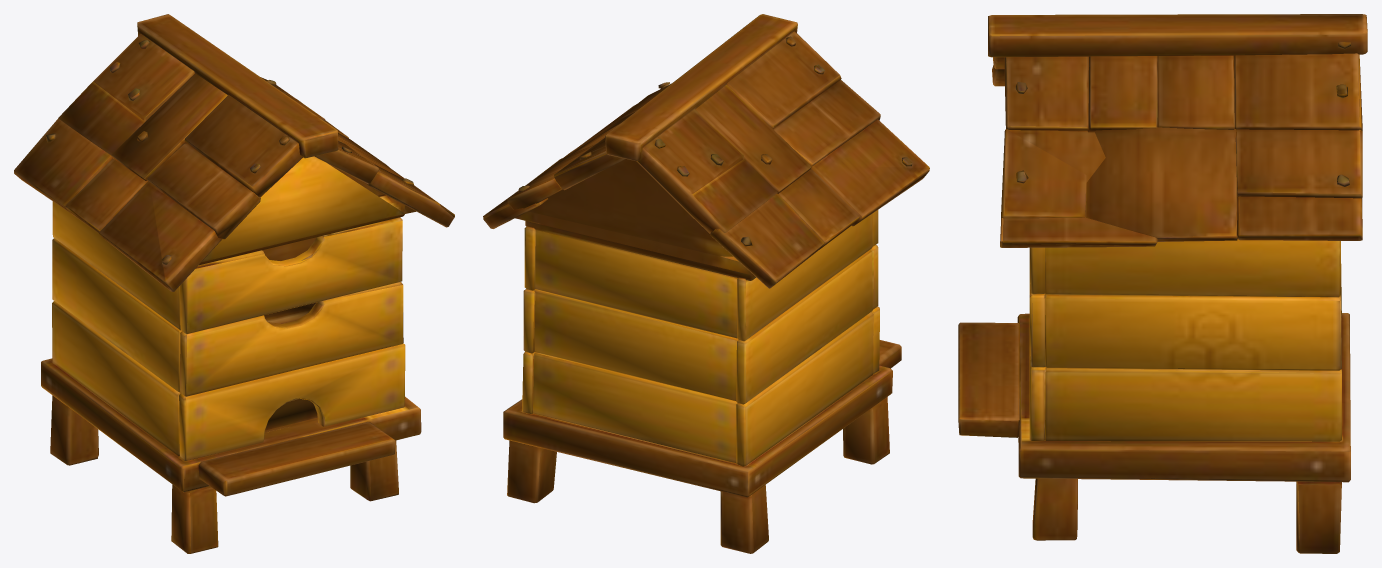
File: beehive.glb
The picture shows the model from 3 angles, left to right: view 1: azimuth 30°, elevation 25°; view 2: azimuth 150°, elevation 25°; view 3: azimuth 270°, elevation 25°; orthographic projection. The views are drawn at different scales.
Size of the model in its own units: 0.7715 by 1 by 0.8066.
1 material, 1 textured.
